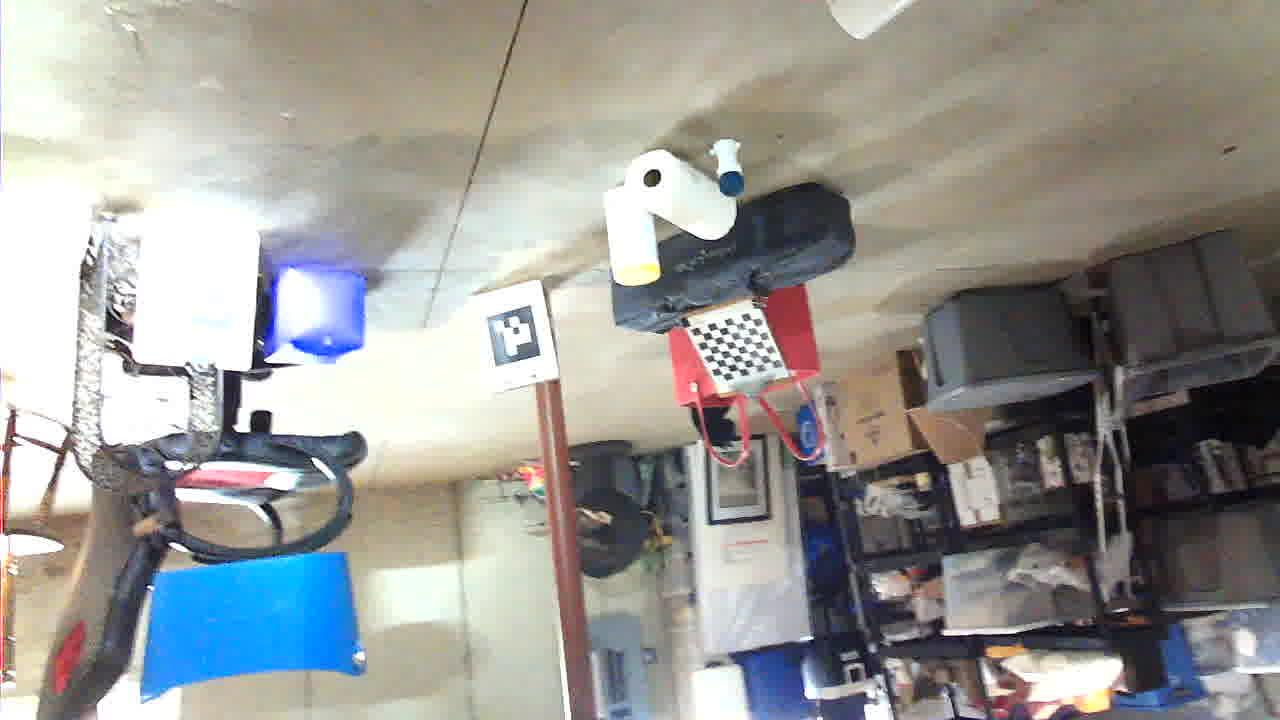coral: (354, 682, 452, 720)
